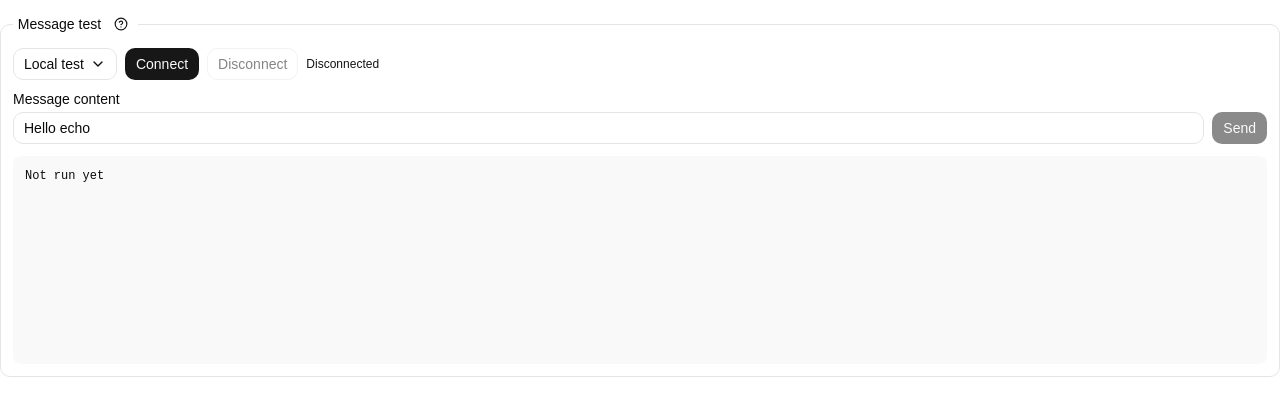
Test: connects, echoes and disconnects locally without opening a WebSocket
Click the button "Connect".
click(162, 64)  # box [125, 48, 199, 80]
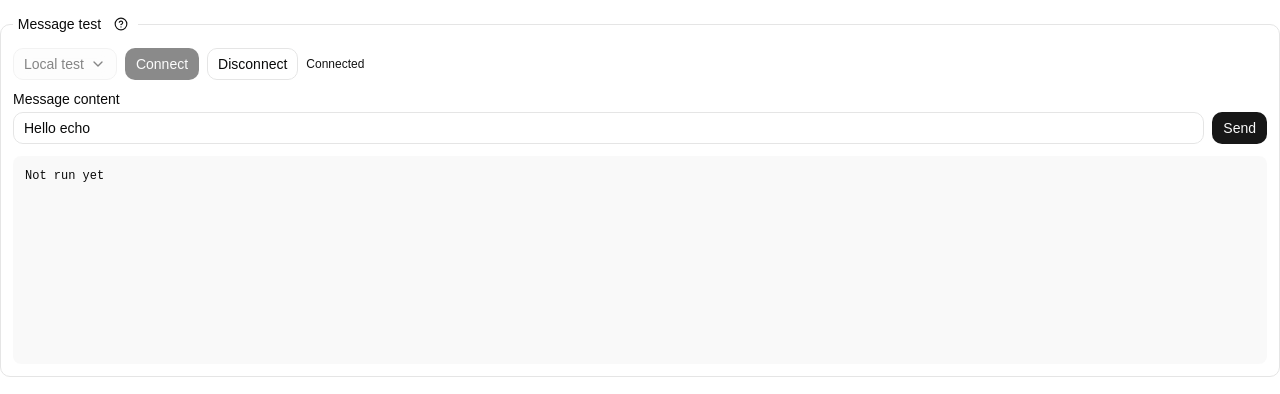
Expected: the text "Connected" is shown, [306, 57, 364, 71]
Replace the text in the field labelled "Message content" with "local hello" at point(609, 128), box [13, 112, 1204, 144]
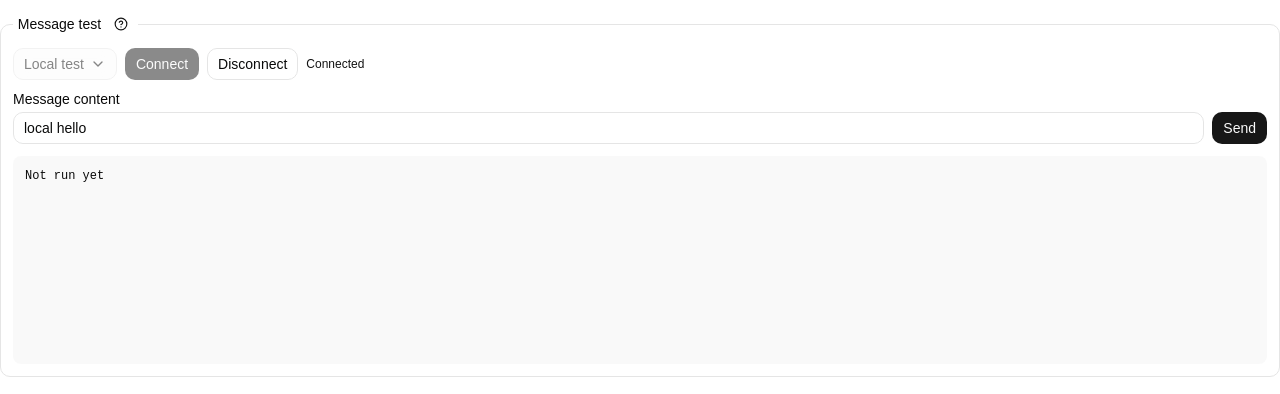
Click the button "Send".
click(1240, 128)  # box [1212, 112, 1267, 144]
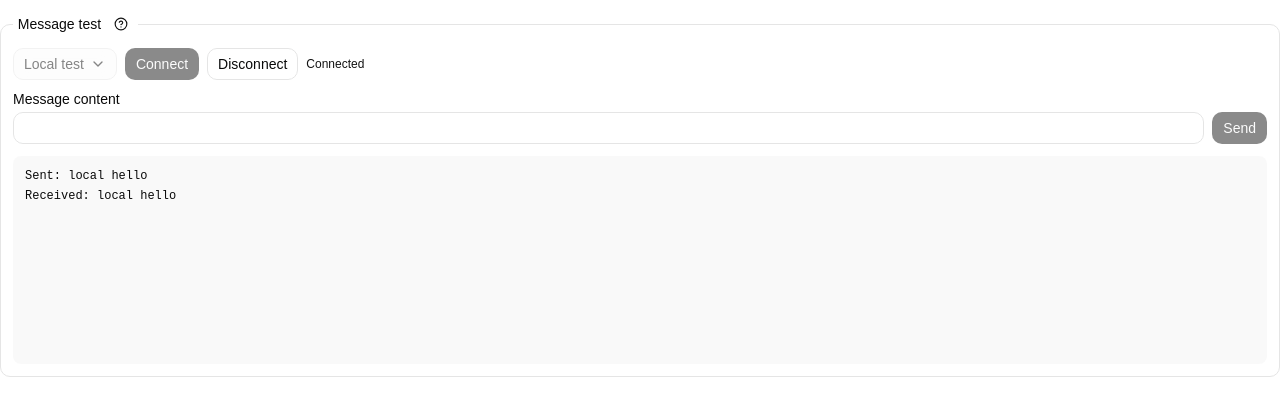
Now the list item "Received: local hello" is shown, box [25, 189, 176, 203]
Click the button "Disconnect".
click(253, 64)  # box [207, 48, 298, 80]
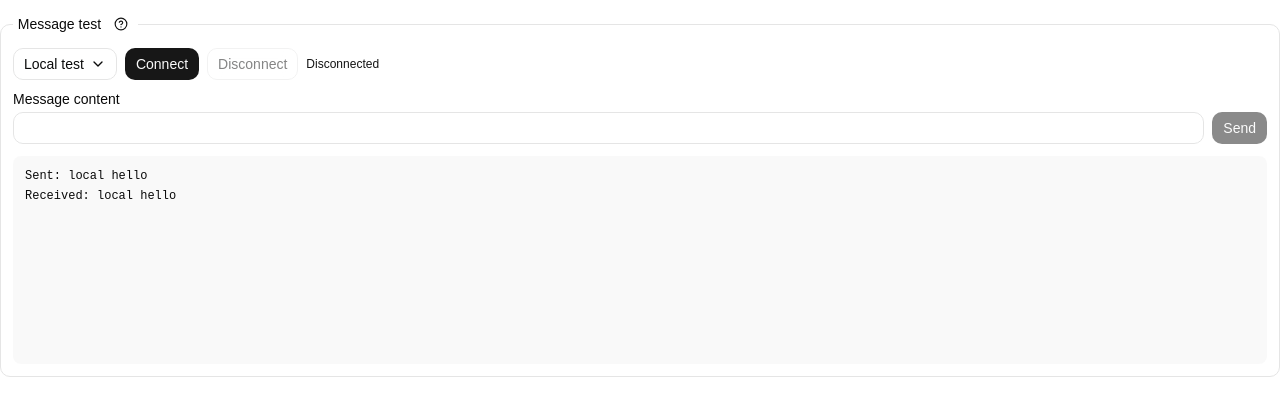
Now the button "Send" is disabled, box [1212, 112, 1267, 144]
Now the message reads "Disconnected", box [306, 57, 379, 71]
